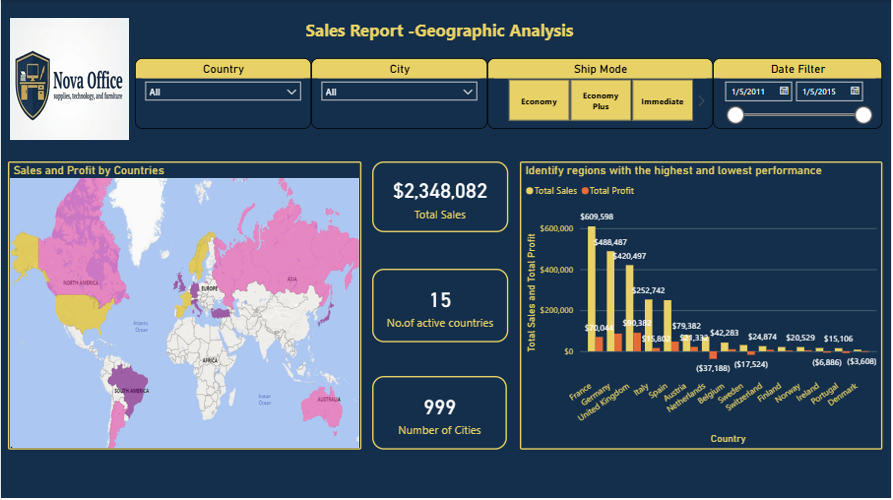

The dashboard page shown, as its layout file describes it:
{"tool":"powerbi","page":{"name":"Geographic Analysis","canvas":[1280,720],"ordinal":5},"visuals":[{"type":"slicer","title":"Date Filter ","fields":{"Values":["Dim_Date.Date"]},"box":[1024.7,83.6,243.8,102],"z":0},{"type":"slicer","title":"Ship Mode ","fields":{"Values":["Dim_Ship Mode.Ship Mode"]},"box":[700.2,83.6,324.6,102],"z":1000},{"type":"slicer","title":"City","fields":{"Values":["Dim_City.City"]},"box":[446.5,83.6,253.7,102],"z":2000},{"type":"slicer","title":"Country","fields":{"Values":["Dim_City.City"]},"box":[192.8,83.6,253.7,102],"z":3000},{"type":"textbox","box":[433.2,20.7,846.8,55.5],"z":4000},{"type":"treemap","title":"Sales and Profit by Countries","fields":{"Group":["Dim_Country.Country"],"Values":["-Measures.Total Sales"]},"box":[9.9,232.4,508.8,415.3],"z":5000},{"type":"clusteredColumnChart","title":"Identify regions with the highest and lowest performance","fields":{"Category":["Dim_Country.Country"],"Y":["-Measures.Total Sales","-Measures.Total Profit"]},"box":[746.9,232.4,521.6,415.3],"z":6000},{"type":"card","fields":{"Values":["-Measures.No.of active countries"]},"box":[534.3,386.9,195.6,106.3],"z":7000},{"type":"card","fields":{"Values":["-Measures.Total Sales"]},"box":[534.3,232.4,195.6,102],"z":8000},{"type":"card","fields":{"Values":["-Measures.Number of Cities"]},"box":[534.3,541.4,194.2,106.3],"z":9000}]}

Visuals, with their boxes in screenshot pixels (x1, y1, x2, y2), scaled from the page's 1280x720 canvas onto the 893x500 screenshot:
"Date Filter " slicer: (715,58,885,129)
"Ship Mode " slicer: (488,58,715,129)
"City" slicer: (312,58,488,129)
"Country" slicer: (135,58,312,129)
textbox: (302,14,892,53)
"Sales and Profit by Countries" treemap: (7,161,362,450)
"Identify regions with the highest and lowest performance" clusteredColumnChart: (521,161,885,450)
card - -Measures.No.of active countries: (373,269,509,342)
card - -Measures.Total Sales: (373,161,509,232)
card - -Measures.Number of Cities: (373,376,508,450)
